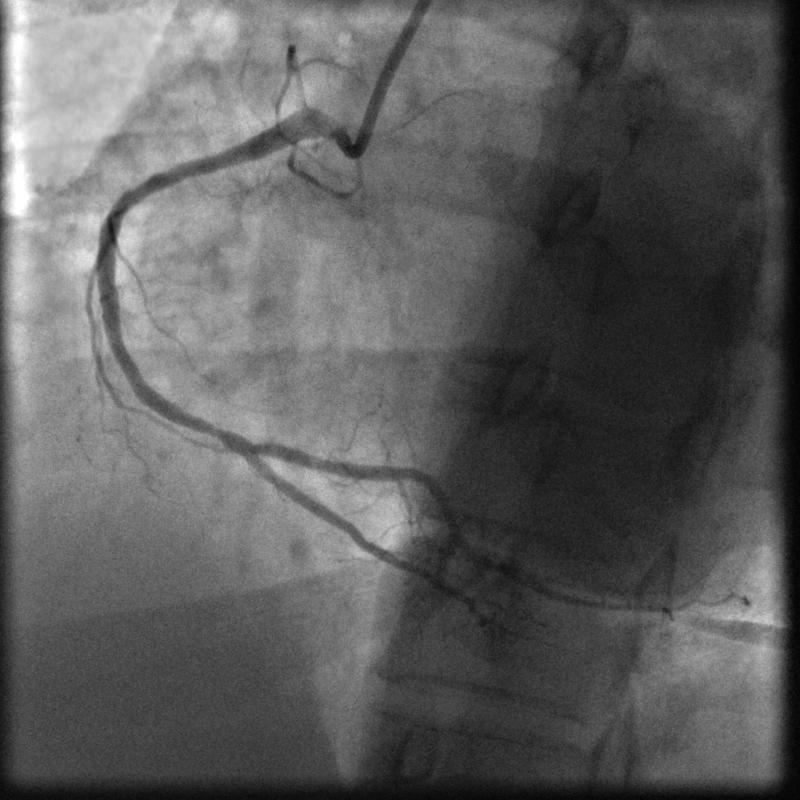Stenosis: (200, 410, 235, 456)
